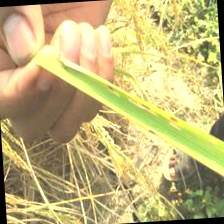Bacterial_Leaf_Blight: (127, 97, 154, 109), (104, 80, 118, 92), (168, 113, 179, 122)
